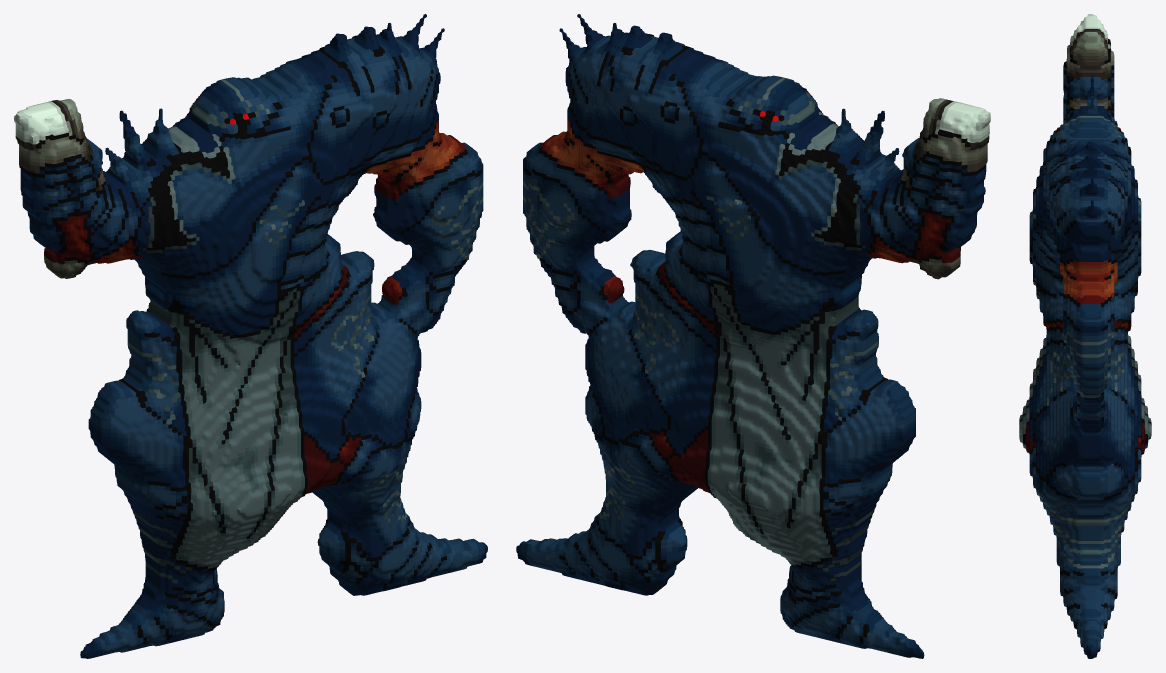
File: Fight_722_2_03.obj
3 renders of one model, left to right at view 1: azimuth 30°, elevation 25°; view 2: azimuth 150°, elevation 25°; view 3: azimuth 270°, elevation 25°, orthographic. The views are drawn at different scales.
Size of the model in its own units: 13.18 by 15 by 3.9.
1 material, 1 textured.
